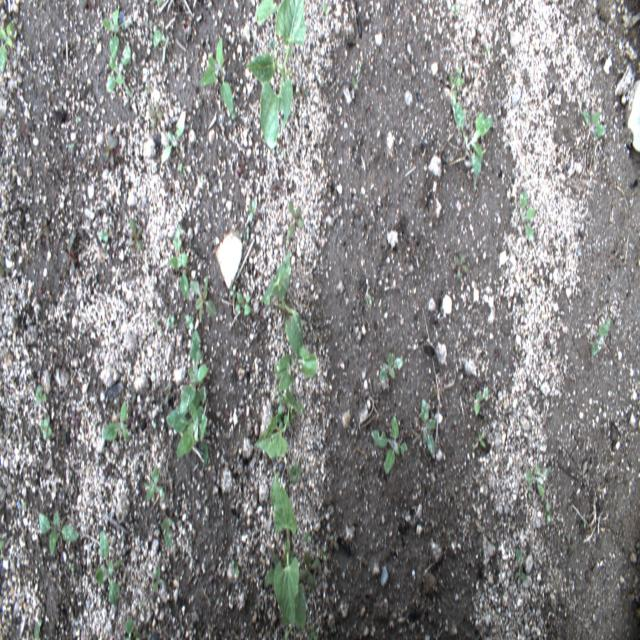crop: (245, 0, 306, 150), (270, 467, 299, 623), (260, 251, 302, 356), (254, 386, 303, 457), (274, 332, 317, 390), (281, 582, 306, 640), (255, 0, 280, 25)
weed: (450, 101, 492, 178), (165, 390, 208, 458), (178, 330, 208, 420), (200, 36, 234, 113), (370, 416, 407, 476), (95, 531, 125, 604), (38, 510, 79, 556), (168, 224, 189, 301), (161, 110, 186, 165), (106, 45, 131, 99), (190, 274, 216, 322), (414, 398, 435, 456), (102, 8, 124, 61), (103, 401, 130, 443), (263, 550, 294, 586), (524, 460, 551, 500), (518, 190, 536, 243), (60, 230, 80, 277), (0, 18, 15, 73), (582, 109, 606, 143), (299, 550, 320, 588), (592, 317, 610, 356), (379, 352, 403, 381), (146, 467, 164, 501), (102, 132, 119, 167), (288, 200, 304, 236), (14, 117, 34, 145), (152, 28, 168, 63), (129, 218, 144, 252), (161, 508, 173, 549), (195, 384, 207, 424), (453, 252, 469, 281), (474, 384, 488, 416), (150, 567, 167, 592), (235, 292, 252, 316), (515, 547, 527, 581), (148, 104, 164, 128), (273, 406, 289, 430), (288, 460, 302, 486), (236, 153, 248, 180), (125, 620, 141, 640), (325, 530, 339, 552), (473, 428, 487, 450), (280, 33, 292, 58), (561, 532, 576, 552), (449, 72, 458, 104), (40, 414, 51, 440), (208, 562, 218, 584), (0, 256, 11, 275), (164, 382, 173, 405), (143, 20, 153, 40), (324, 496, 334, 516), (128, 392, 136, 416), (36, 384, 46, 403), (33, 618, 42, 639), (248, 198, 256, 220), (276, 393, 284, 415), (307, 624, 318, 640), (456, 68, 465, 87), (255, 309, 265, 326), (544, 503, 552, 522), (71, 411, 79, 429), (185, 314, 194, 330), (98, 228, 108, 242), (304, 52, 311, 72), (230, 558, 238, 575), (364, 100, 373, 115), (319, 547, 328, 561), (42, 219, 49, 236), (296, 87, 309, 96), (167, 313, 174, 329), (302, 531, 312, 542), (450, 4, 460, 15), (351, 76, 358, 90), (45, 232, 50, 250), (359, 554, 364, 571), (322, 2, 328, 16), (526, 484, 531, 500), (366, 293, 372, 306), (74, 116, 82, 125), (230, 284, 236, 296), (68, 562, 75, 571), (68, 142, 75, 150), (0, 539, 5, 550), (156, 0, 164, 6), (246, 226, 249, 239), (331, 627, 337, 633), (583, 517, 586, 529), (479, 548, 482, 557)
